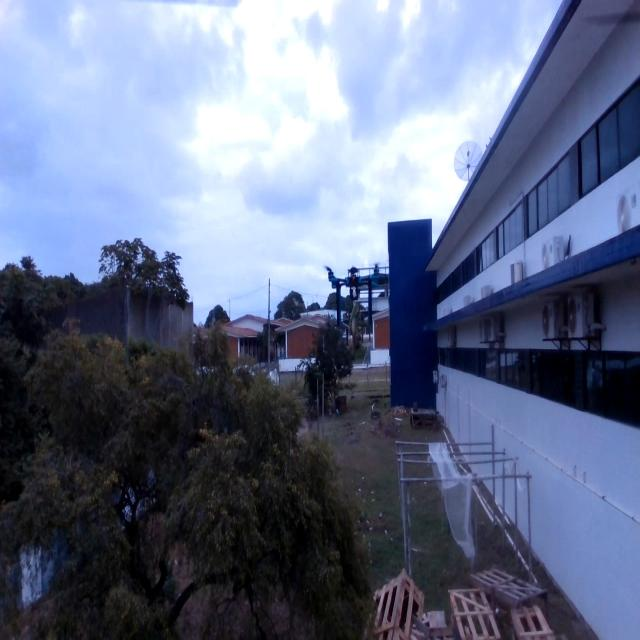-uav-: (319, 252, 386, 339)
